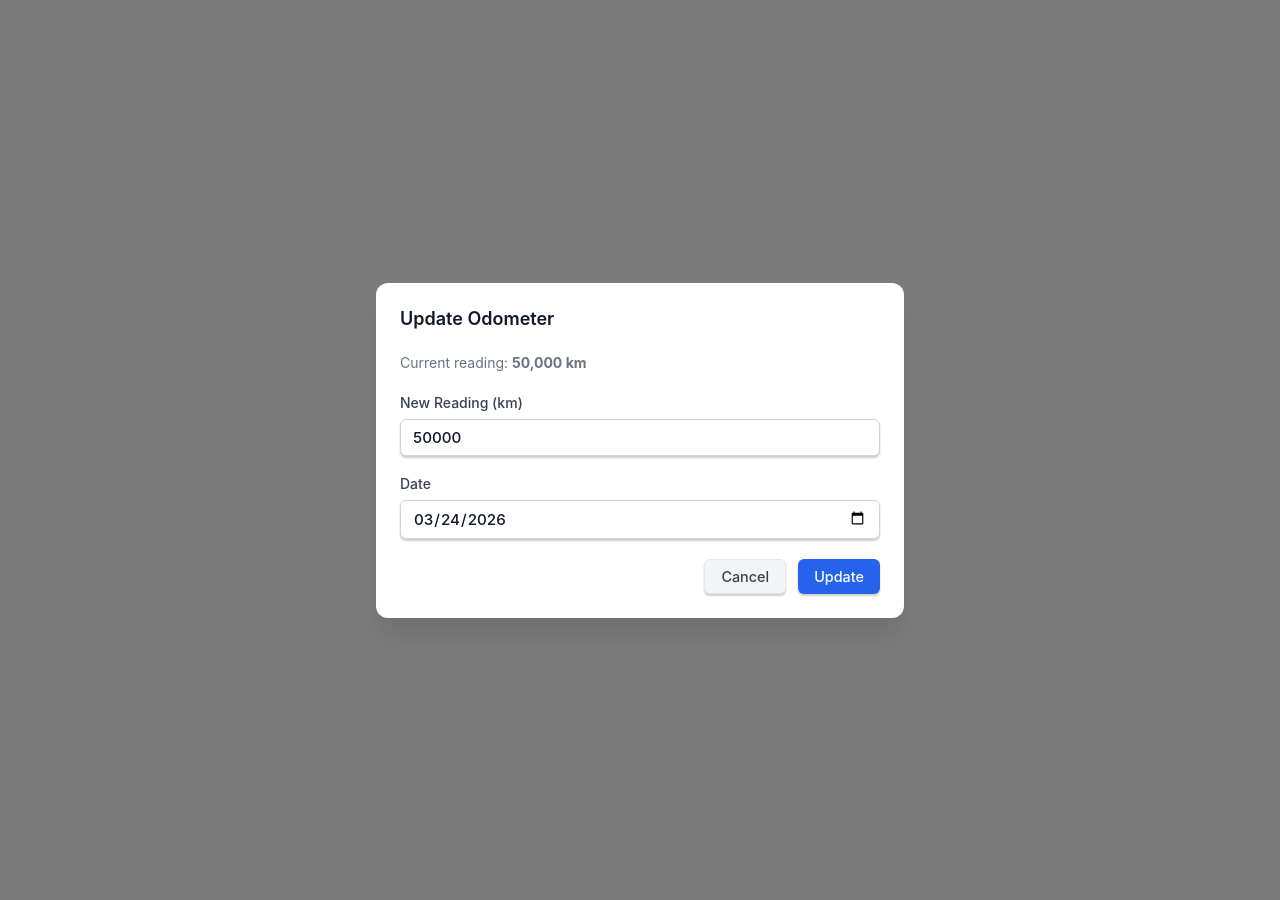
Test: UpdateOdometer › shows soft warning message when jump exceeds 10,000 km
The image size is (1280, 900).
Replace the text in the number field with test id "input-reading" with "65000" at (640, 437), box [400,418,880,456]
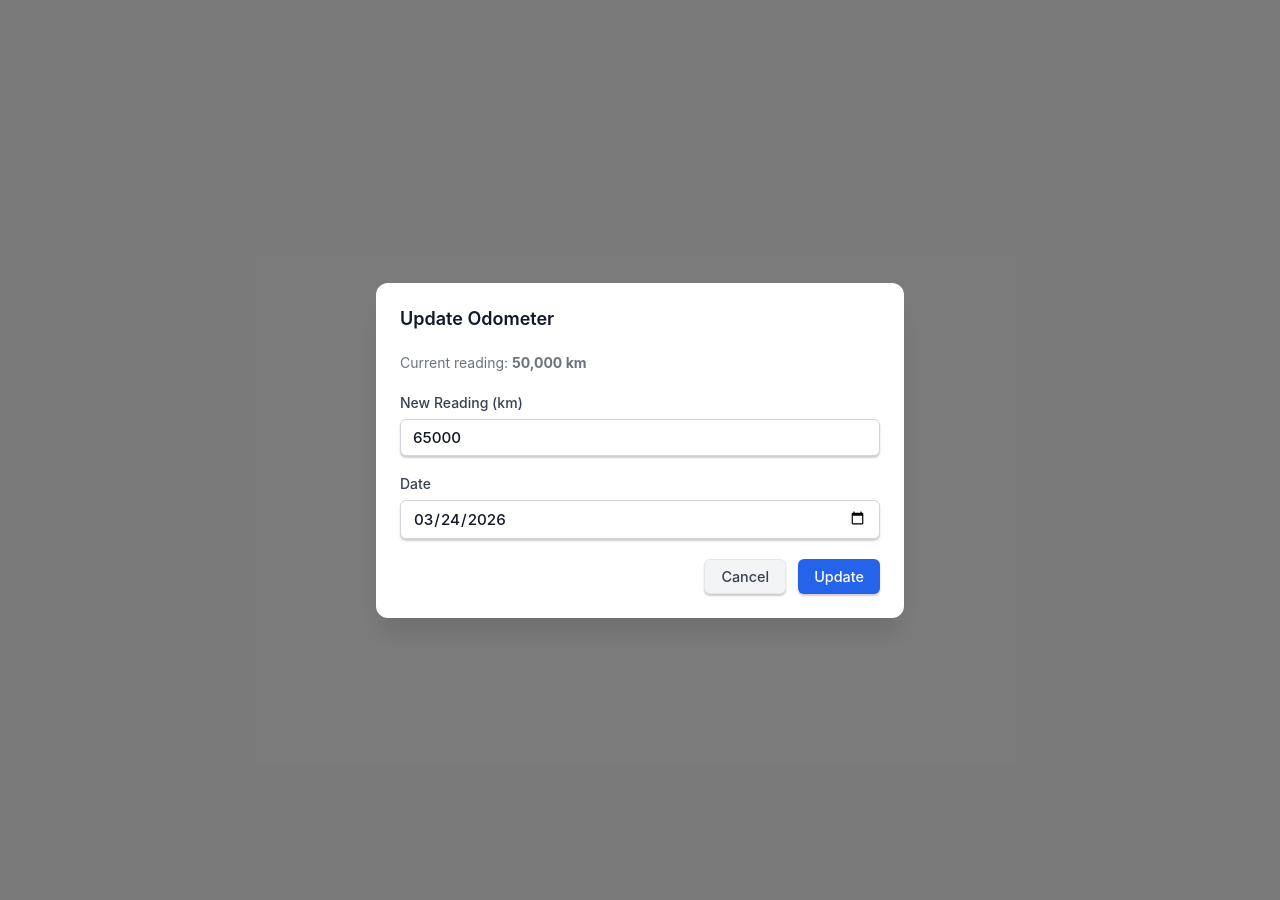
Click the button with test id "btn-submit" at (839, 576), box [798,558,880,594]
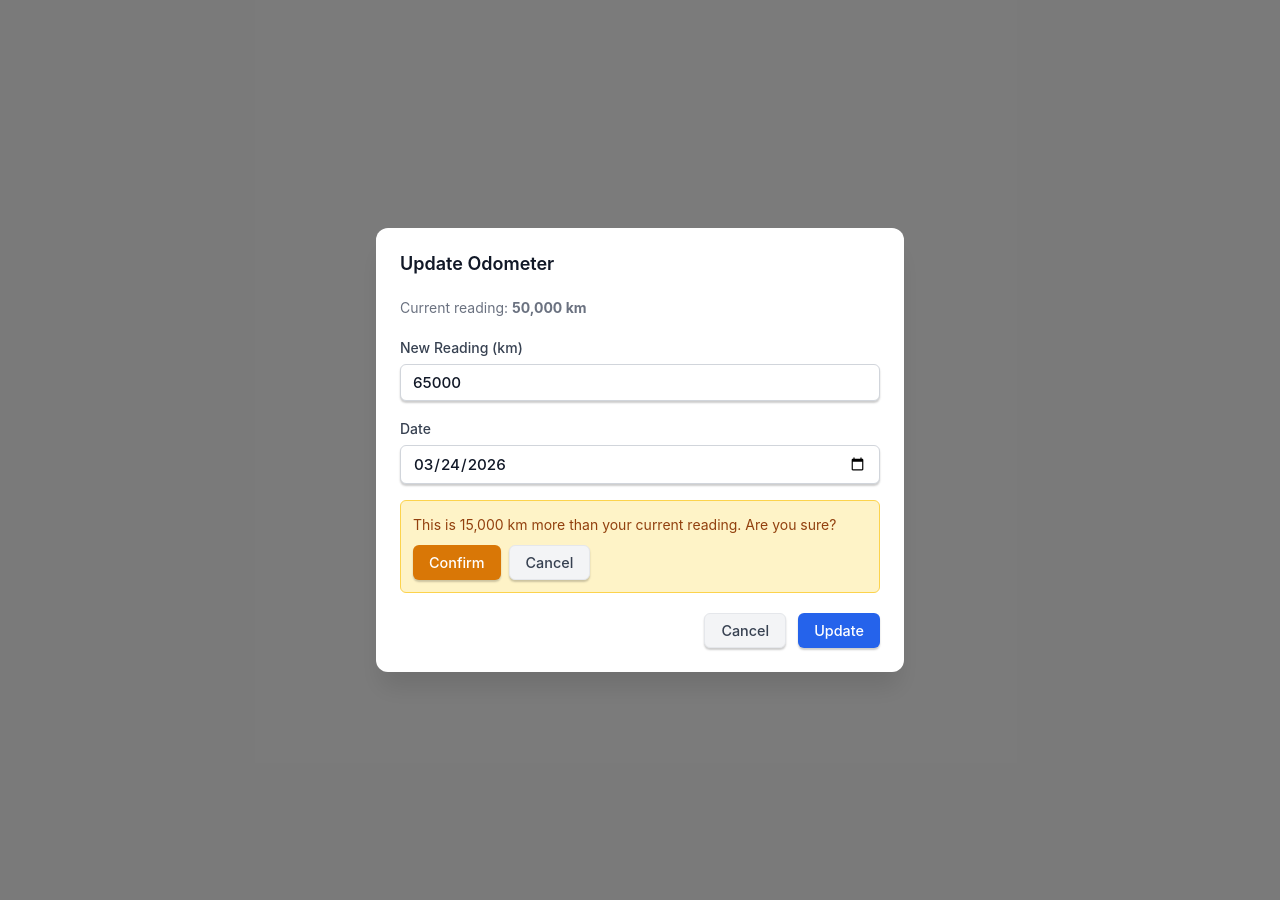
Now the element with test id "large-jump-warning" reads "This is 15,000 km more than your current reading. Are you sure? Confirm Cancel", box [400,500,880,593]
